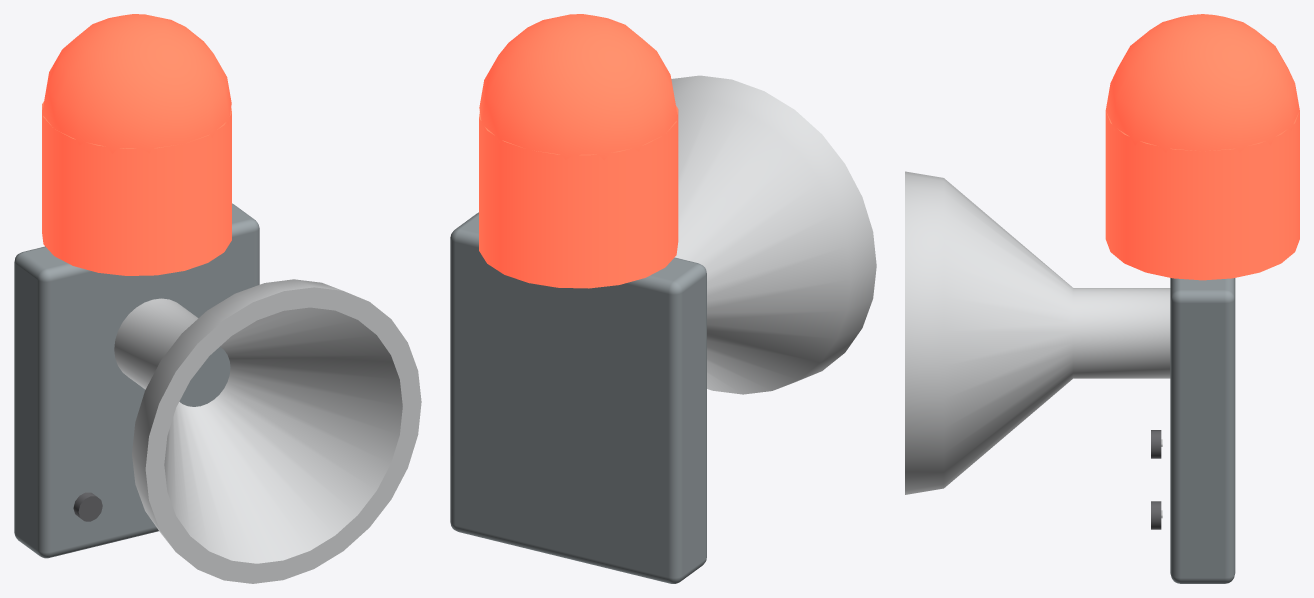
The model's file is prison-complex-builder-alarm-siren-aed949ee__25660.glb.
The picture shows the model from 3 angles, left to right: view 1: azimuth 30°, elevation 25°; view 2: azimuth 150°, elevation 25°; view 3: azimuth 270°, elevation 25°; orthographic projection. The views are drawn at different scales.
Visible parts, largest first — view 1: alarm-siren; view 2: alarm-siren; view 3: alarm-siren.
Part boxes in pixels (box(x1,y1,x2,y2)): alarm-siren: box(14, 14, 421, 583); alarm-siren: box(450, 14, 876, 583); alarm-siren: box(905, 14, 1299, 583).
Bounding box in the file's own units: 0.25 × 0.435 × 0.305.
